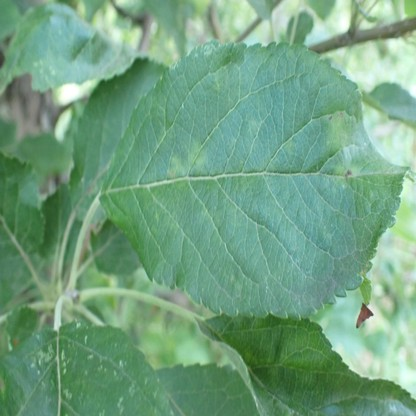scab: (30, 321, 174, 416), (326, 111, 347, 147), (334, 162, 359, 185), (190, 143, 207, 168), (168, 156, 186, 178), (229, 271, 243, 290), (247, 119, 262, 133), (284, 139, 292, 151), (389, 402, 398, 412)
